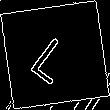L_NE: (27, 25, 83, 85)
